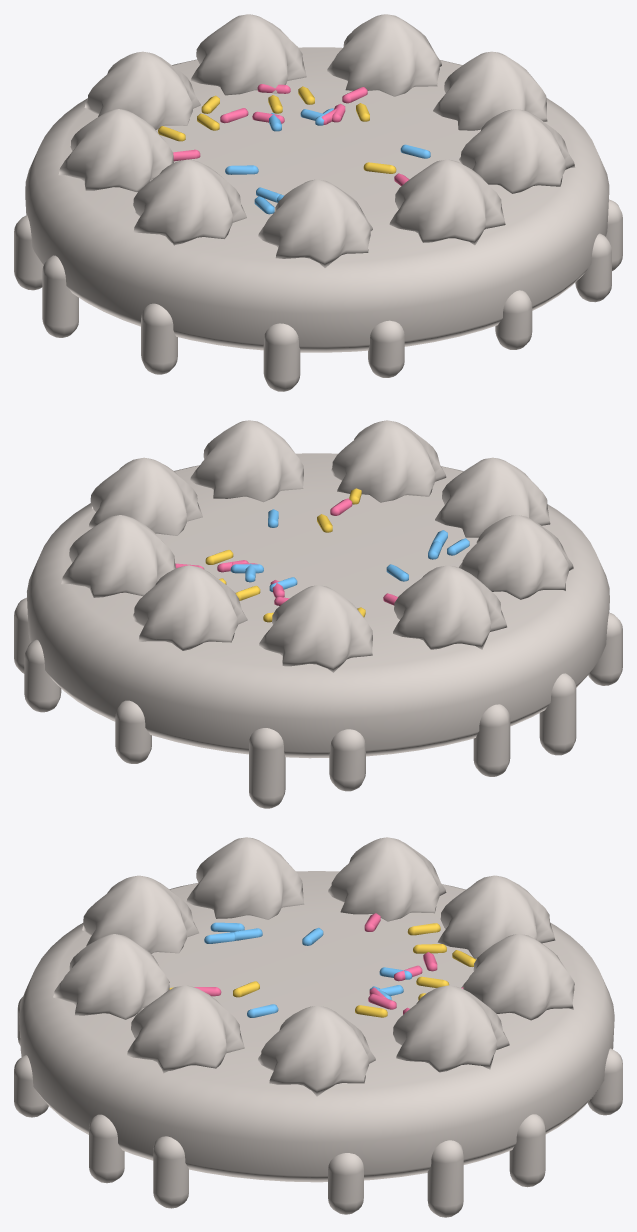
The model's file is CakeCream.obj.
The picture shows the model from 3 angles, top to bottom: view 1: azimuth 30°, elevation 25°; view 2: azimuth 150°, elevation 25°; view 3: azimuth 270°, elevation 25°; orthographic projection. The views are drawn at different scales.
Visible parts, largest first — view 1: Cream, SprinklesA, SprinklesC, SprinklesB; view 2: Cream, SprinklesB, SprinklesC, SprinklesA; view 3: Cream, SprinklesB, SprinklesC, SprinklesA.
Part boxes in pixels (x1,y1,x2,y2): Cream: (14,14,622,391); SprinklesA: (173,84,409,185); SprinklesC: (158,86,396,173); SprinklesB: (225,108,430,214); Cream: (14,420,622,808); SprinklesB: (230,509,469,591); SprinklesC: (205,488,365,622); SprinklesA: (175,498,397,605); Cream: (14,837,622,1217); SprinklesB: (204,922,412,1017); SprinklesC: (169,923,476,1017); SprinklesA: (194,913,463,1014).
Bounding box in the file's own units: 3.63 × 1.24 × 3.56.
